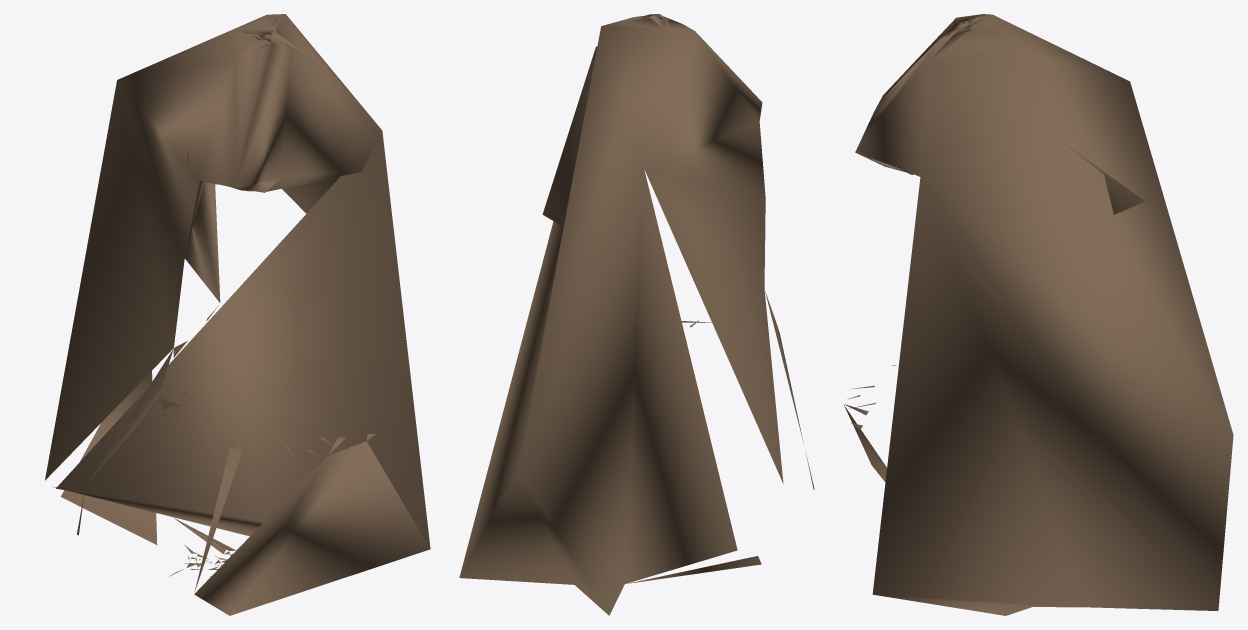
File: hair32-female-hijab-a3.glb
3 views of the same model, side by side, from view 1: azimuth 30°, elevation 25°; view 2: azimuth 150°, elevation 25°; view 3: azimuth 270°, elevation 25° (orthographic). The views are drawn at different scales.
Visible parts, largest first — view 1: hair32-hijab; view 2: hair32-hijab; view 3: hair32-hijab.
Boxes of the visible parts, left/top/right/bottom form: hair32-hijab: left=45, top=14, right=430, bottom=615; hair32-hijab: left=459, top=14, right=814, bottom=615; hair32-hijab: left=843, top=14, right=1233, bottom=615.
Bounding box in the file's own units: 0.2186 × 0.3975 × 0.2434.
